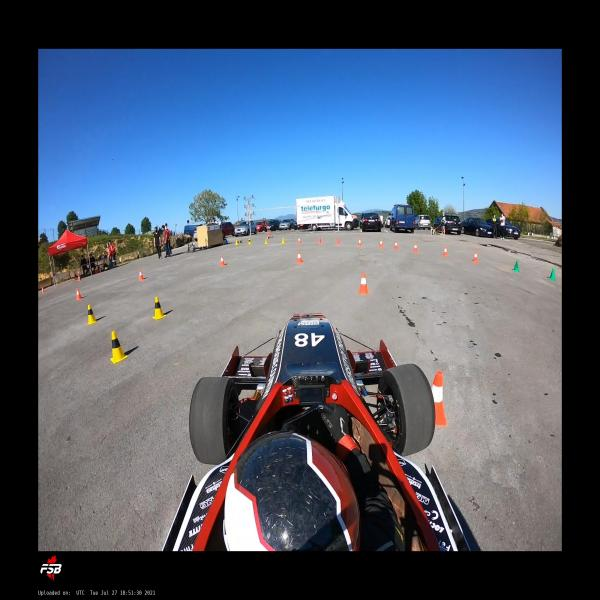orange_cone: (431, 371, 449, 425), (358, 272, 370, 294), (296, 250, 303, 263), (76, 287, 82, 300), (220, 254, 226, 266), (472, 250, 478, 262), (139, 268, 144, 280), (413, 241, 418, 252), (443, 245, 448, 256), (379, 238, 384, 248), (336, 236, 341, 245), (394, 240, 398, 249), (358, 237, 362, 246), (318, 236, 322, 244), (298, 236, 301, 244), (42, 286, 45, 293), (79, 274, 81, 281)
unknown_cone: (548, 266, 555, 280), (512, 259, 520, 271)
yellow_cone: (109, 330, 129, 364), (152, 296, 167, 319), (87, 304, 98, 325), (248, 238, 252, 244), (265, 237, 268, 244), (282, 237, 285, 243), (236, 239, 238, 245)
